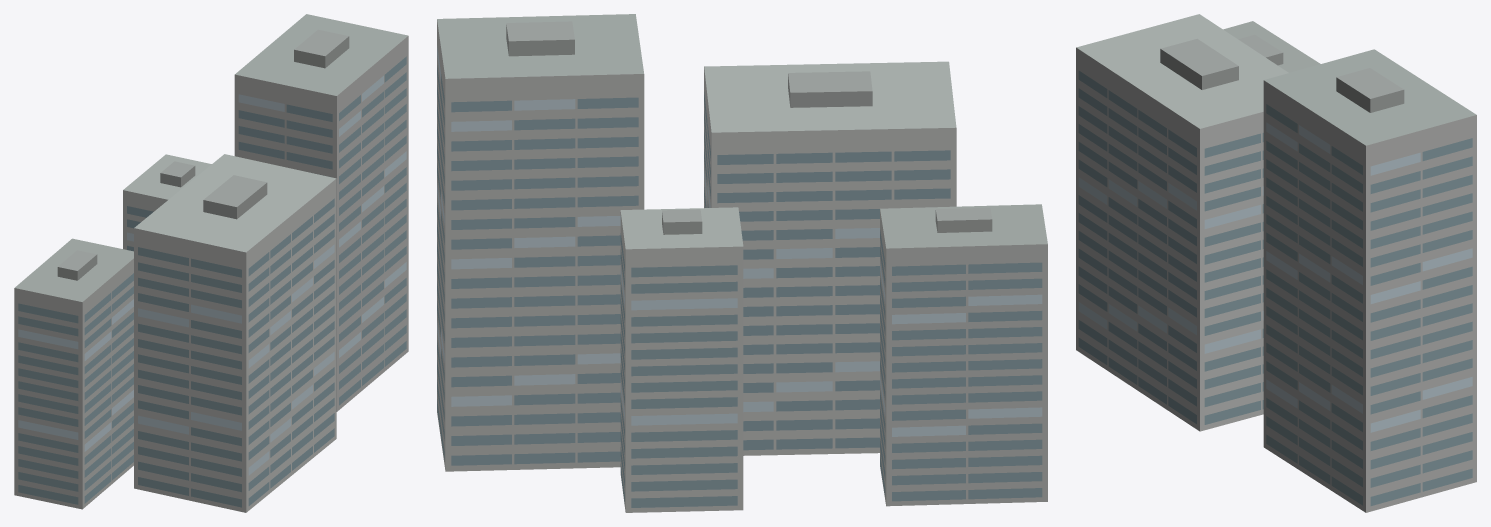
The model's file is apt-a15284204.glb.
3 renders of one model, left to right at view 1: azimuth 30°, elevation 25°; view 2: azimuth 150°, elevation 25°; view 3: azimuth 270°, elevation 25°, orthographic. The views are drawn at different scales.
Parts seen in each view (by area): view 1: apt-a15284204; view 2: apt-a15284204; view 3: apt-a15284204.
Part boxes in pixels (box(x1,y1,x2,y2)): apt-a15284204: box(14, 14, 408, 512); apt-a15284204: box(437, 14, 1047, 512); apt-a15284204: box(1076, 14, 1476, 512).
Size of the model in its own units: 91.81 by 65 by 61.92.
